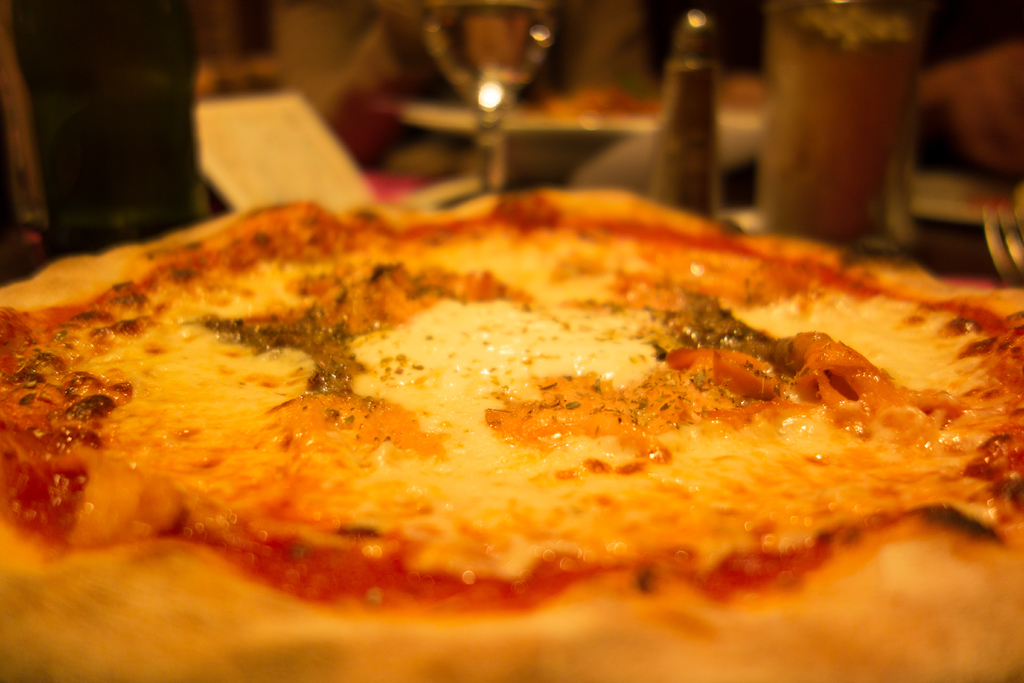Pizza: (3, 159, 1024, 675)
